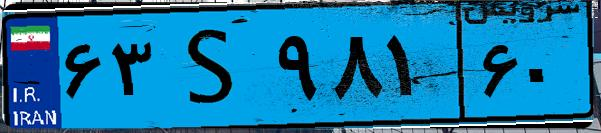0: (525, 38, 570, 115)
1: (385, 28, 445, 110)
3: (110, 28, 158, 98)
6: (57, 26, 110, 100), (475, 38, 525, 113)
8: (330, 28, 385, 110)
9: (270, 28, 330, 110)
S: (158, 12, 270, 120)
